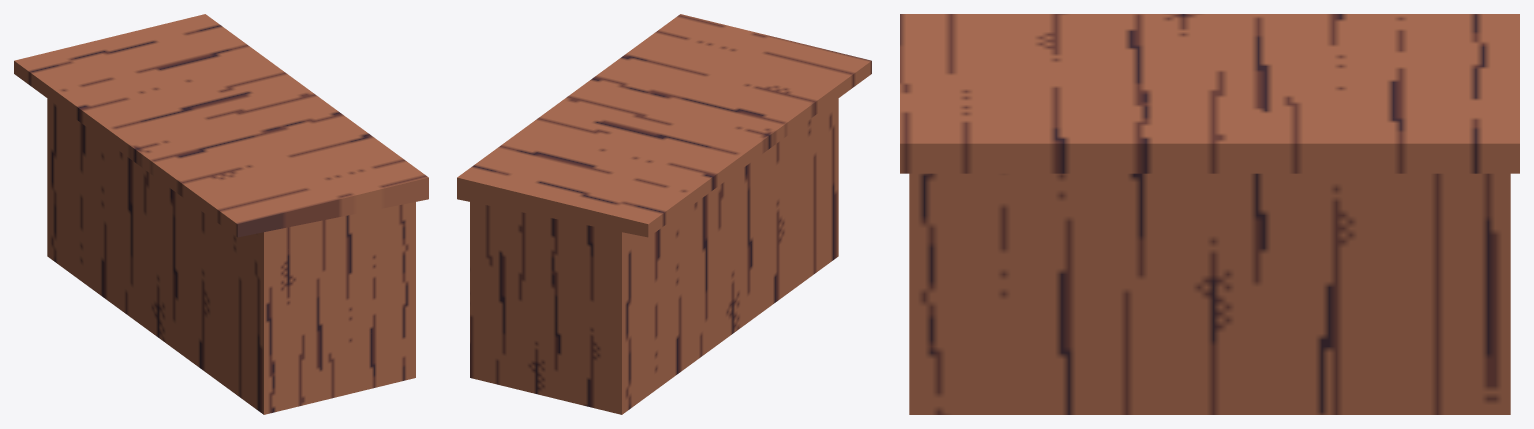
The model's file is GabineteMadeira3.fbx.
3 renders of one model, left to right at view 1: azimuth 30°, elevation 25°; view 2: azimuth 150°, elevation 25°; view 3: azimuth 270°, elevation 25°, orthographic. The views are drawn at different scales.
Visible parts, largest first — view 1: GabineteMadeira3; view 2: GabineteMadeira3; view 3: GabineteMadeira3.
Part boxes in pixels (<box>): GabineteMadeira3: <box>14,14,428,414</box>; GabineteMadeira3: <box>457,14,871,414</box>; GabineteMadeira3: <box>900,14,1519,414</box>.
Bounding box in the file's own units: 96.45 × 195 × 96.54.
